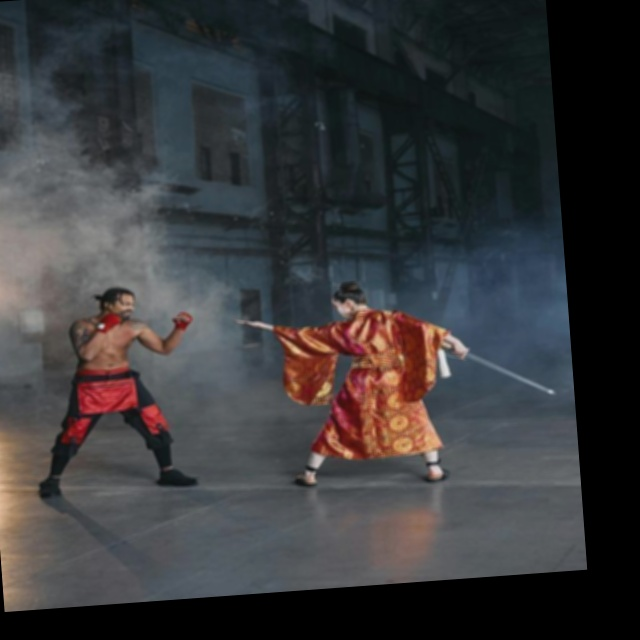Sharp-Object: (424, 328, 562, 411)
